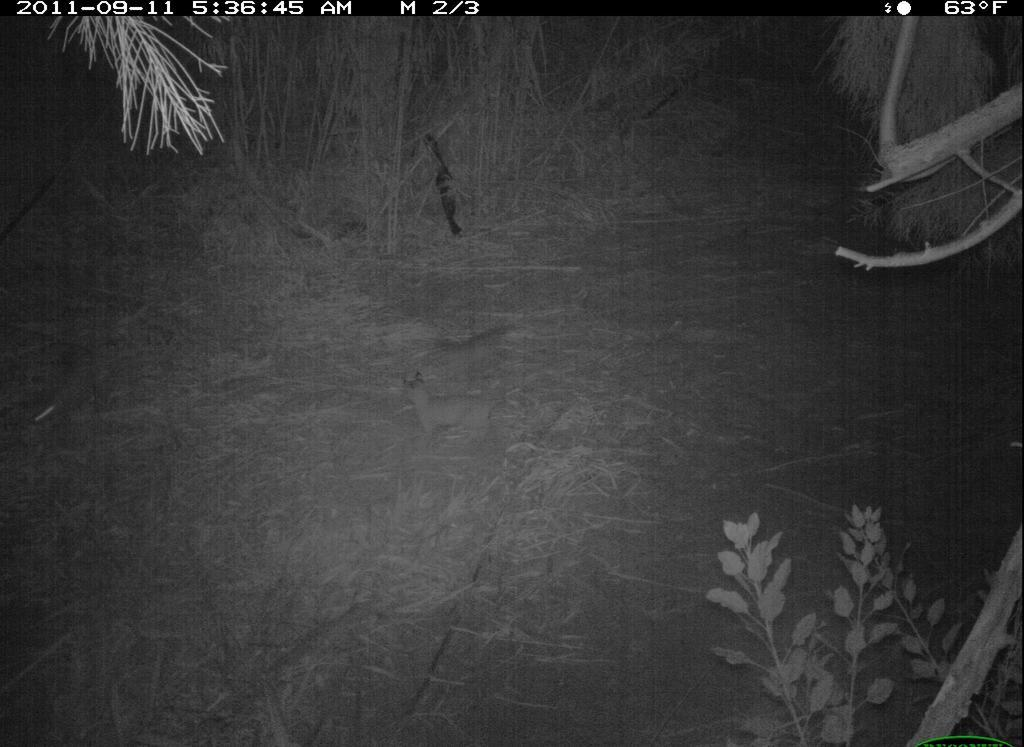bobcat: (399, 367, 516, 452)
